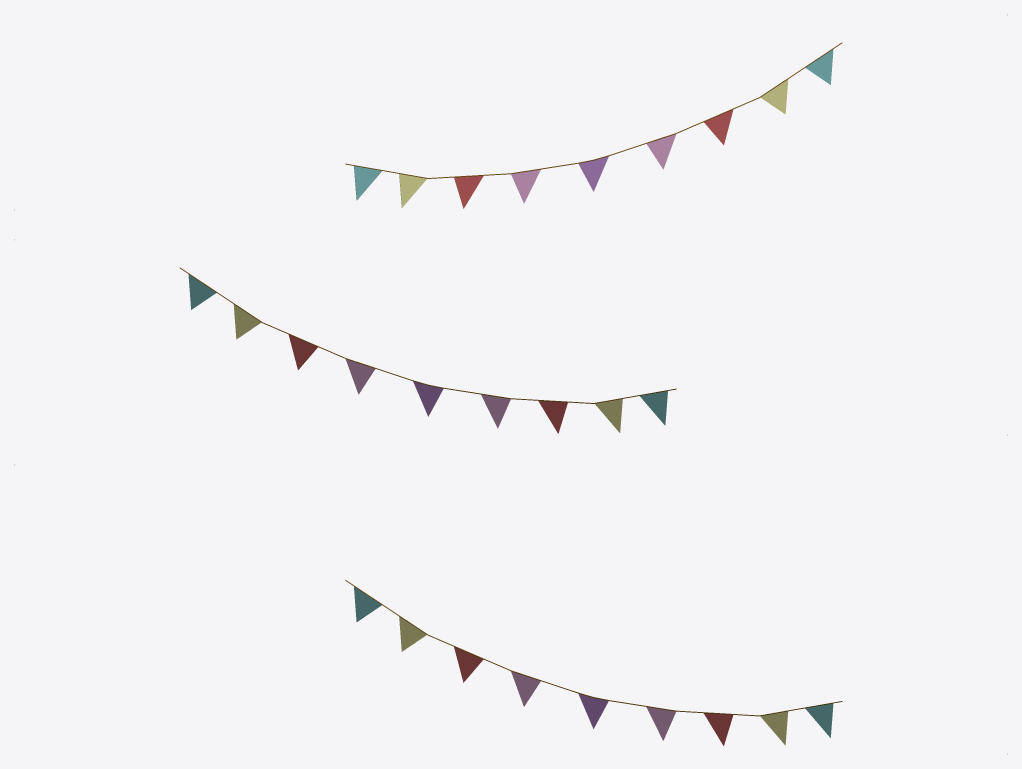
The model's file is bunting.glb.
The picture shows the model from 3 angles, top to bottom: view 1: azimuth 30°, elevation 25°; view 2: azimuth 150°, elevation 25°; view 3: azimuth 330°, elevation 25°; orthographic projection.
Visible parts, largest first — view 1: Triangle10; view 2: Triangle10; view 3: Triangle10.
Part boxes in pixels (x1,y1,x2,y2): Triangle10: [14, 14, 1007, 210]; Triangle10: [14, 239, 1007, 435]; Triangle10: [14, 464, 1007, 754].
Bounding box in the file's own units: 2.28 × 0.2702 × 0.00196.
1 material, 1 textured.
